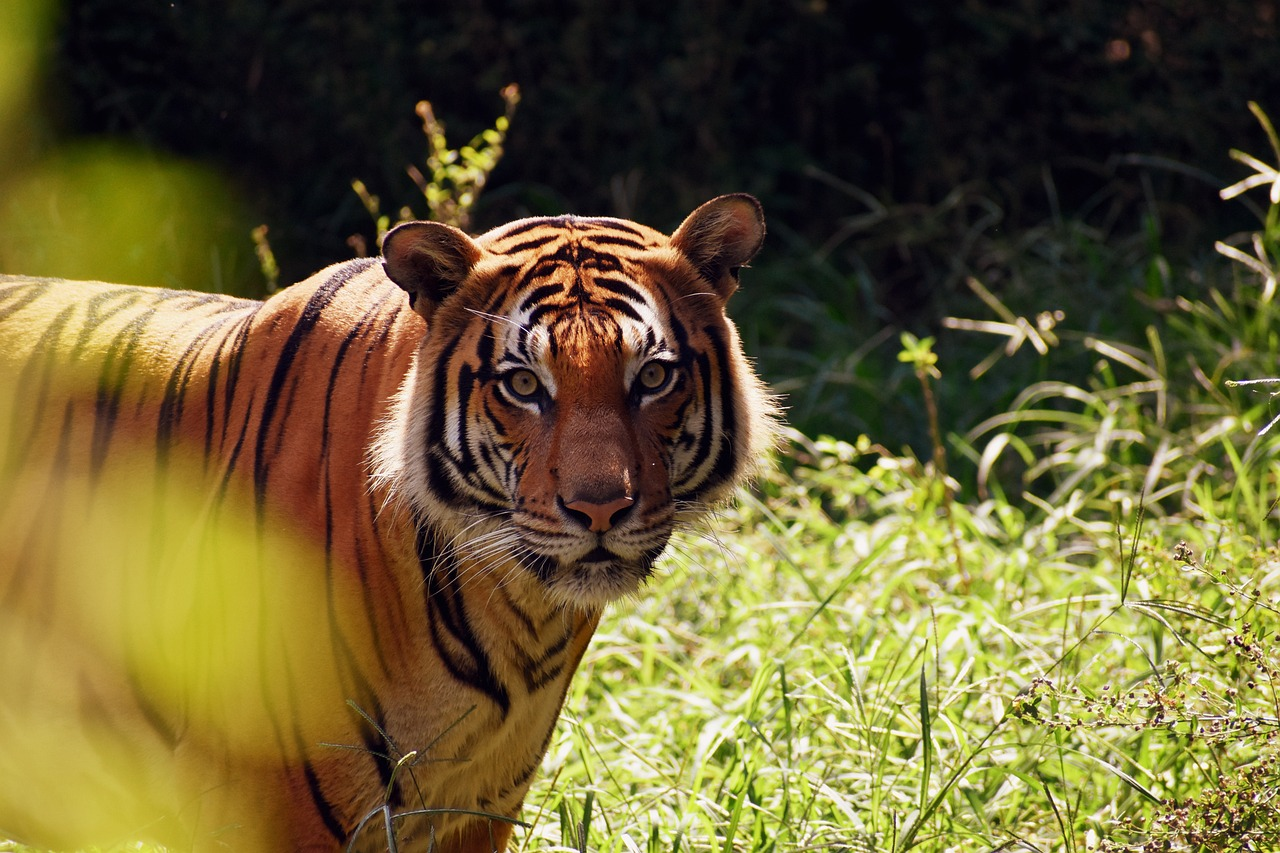tiger: (365, 172, 795, 605)
